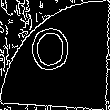O_S: (32, 28, 78, 82)
